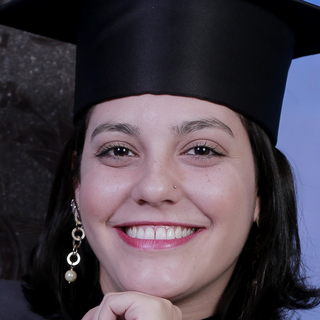eye: (168, 135, 232, 167), (91, 134, 147, 169)
